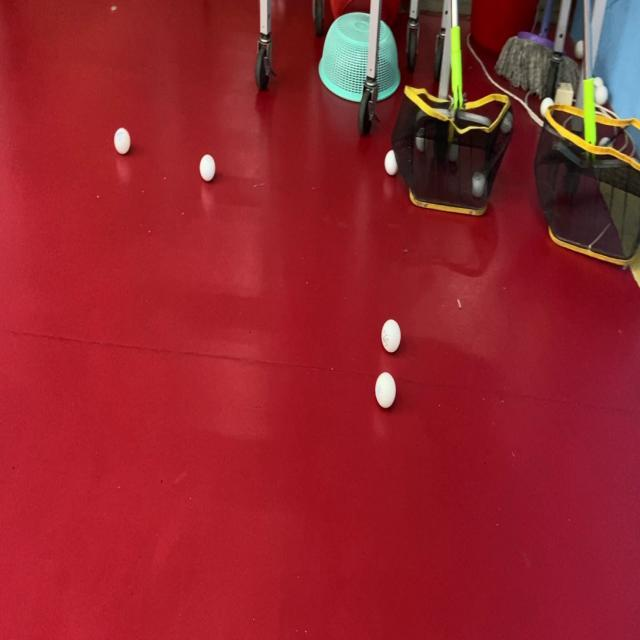ping-pong-ball: (373, 370, 397, 410), (380, 318, 402, 354), (112, 126, 132, 156), (198, 151, 216, 183), (383, 147, 400, 177)
